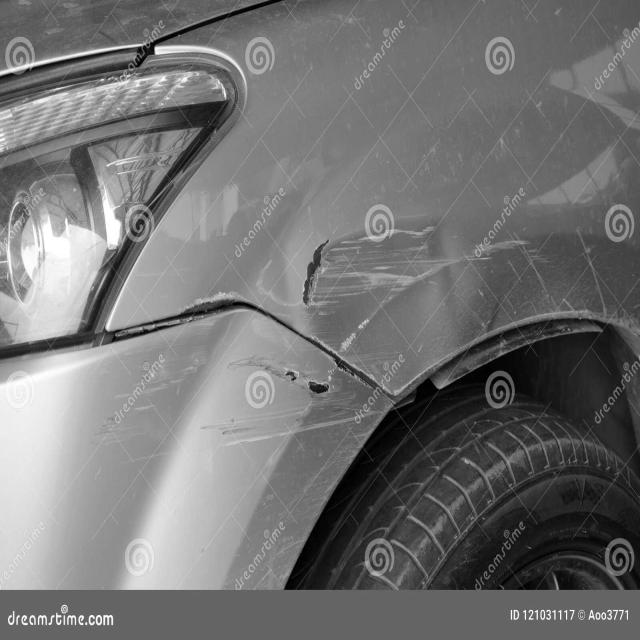dent: (223, 197, 473, 386)
scratch: (94, 210, 615, 587)
